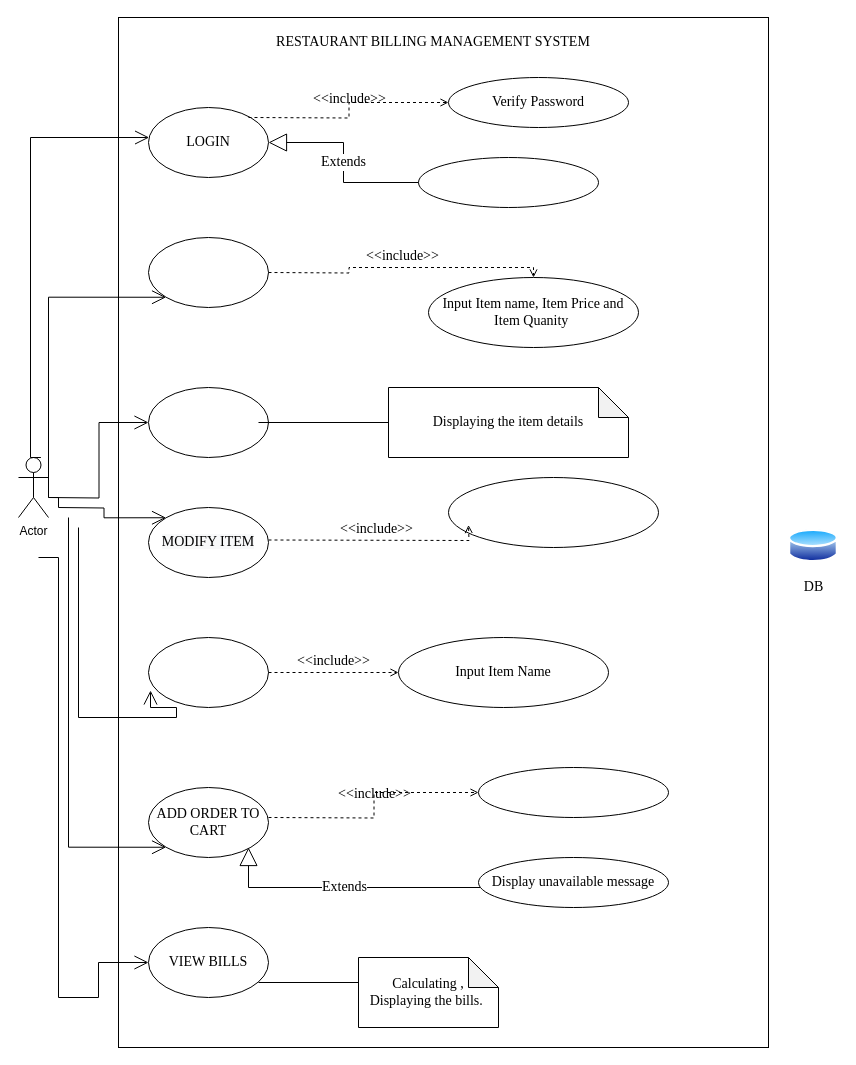
The diagram is 856 pixels wide and 1065 high, and some of its shapes have lost their labels. Here are the shapes that lost their labels. From the top down, the centre of each, then its label:
At [508,182]: "Display Login Error".
At [208,272]: "ADD ITEM".
At [208,422]: "VIEW ITEM".
At [553,512]: "Input old Item name, new Item name, price and quanity".
At [208,672]: "DELETE ITEM".
At [573,792]: "Verify Quantity and Product".
